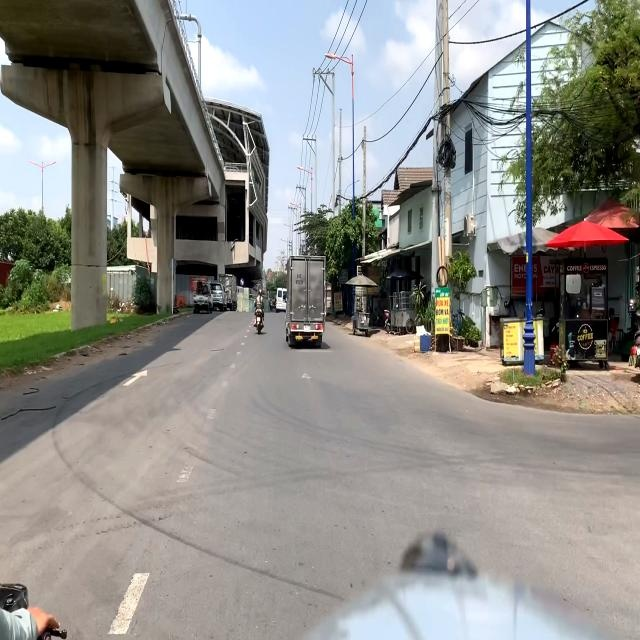bien_hieu_lenh: (240, 278, 244, 287)
